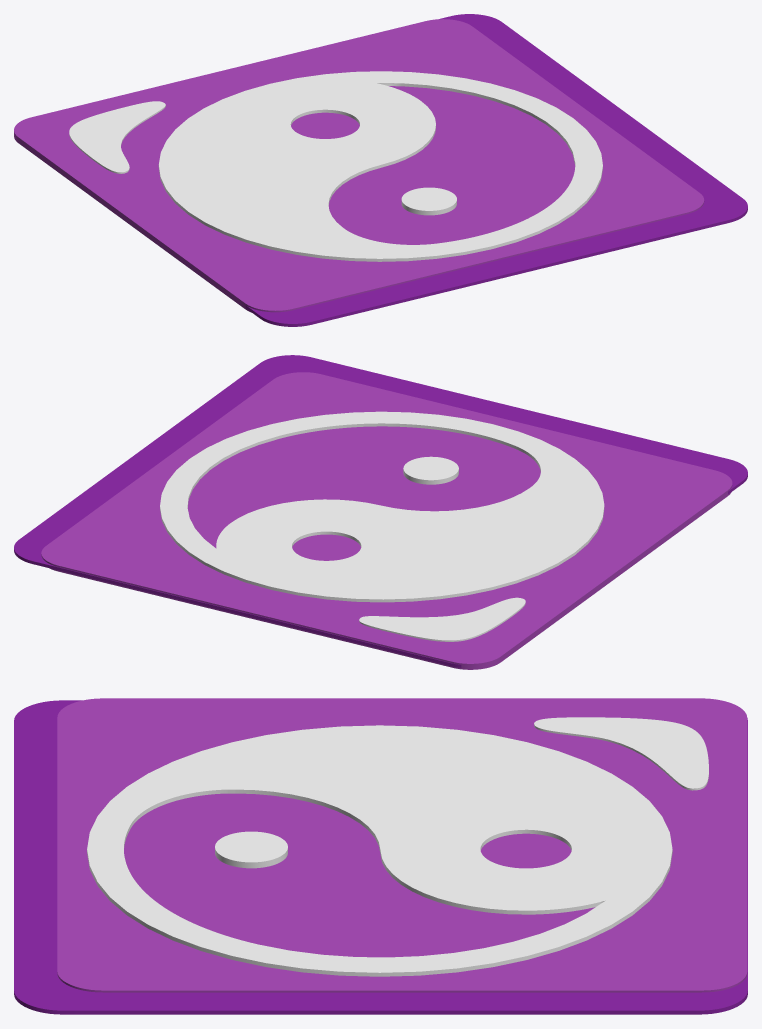
The model's file is emoji_u262f.glb.
3 views of the same model, one above another, from view 1: azimuth 30°, elevation 25°; view 2: azimuth 150°, elevation 25°; view 3: azimuth 270°, elevation 25° (orthographic). The views are drawn at different scales.
Parts seen in each view (by area): view 1: emoji_u262f; view 2: emoji_u262f; view 3: emoji_u262f.
Part boxes in pixels (x1=…): emoji_u262f: x1=14, y1=14, x2=747, y2=326; emoji_u262f: x1=14, y1=355, x2=747, y2=669; emoji_u262f: x1=14, y1=698, x2=747, y2=1014.
Size of the model in its own units: 0.0339 by 0.001 by 0.0339.
